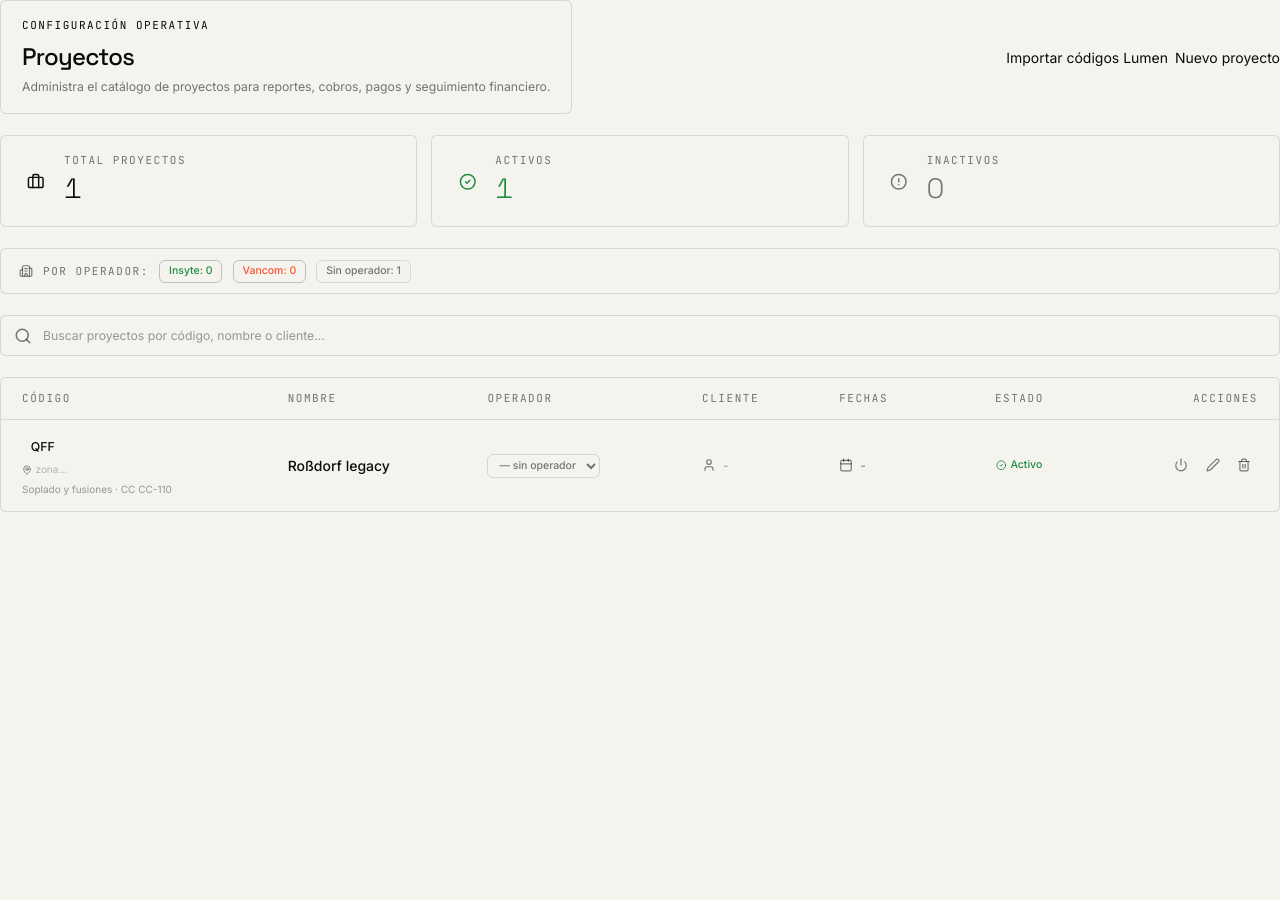
it: Projects — legacy code suggestion (T7) › "Usar sugerencia" copies the suggestion into the builder without touching the raw Código field or saving
Click the button titled "Editar" at (1212, 465), box [1198,451,1226,479]
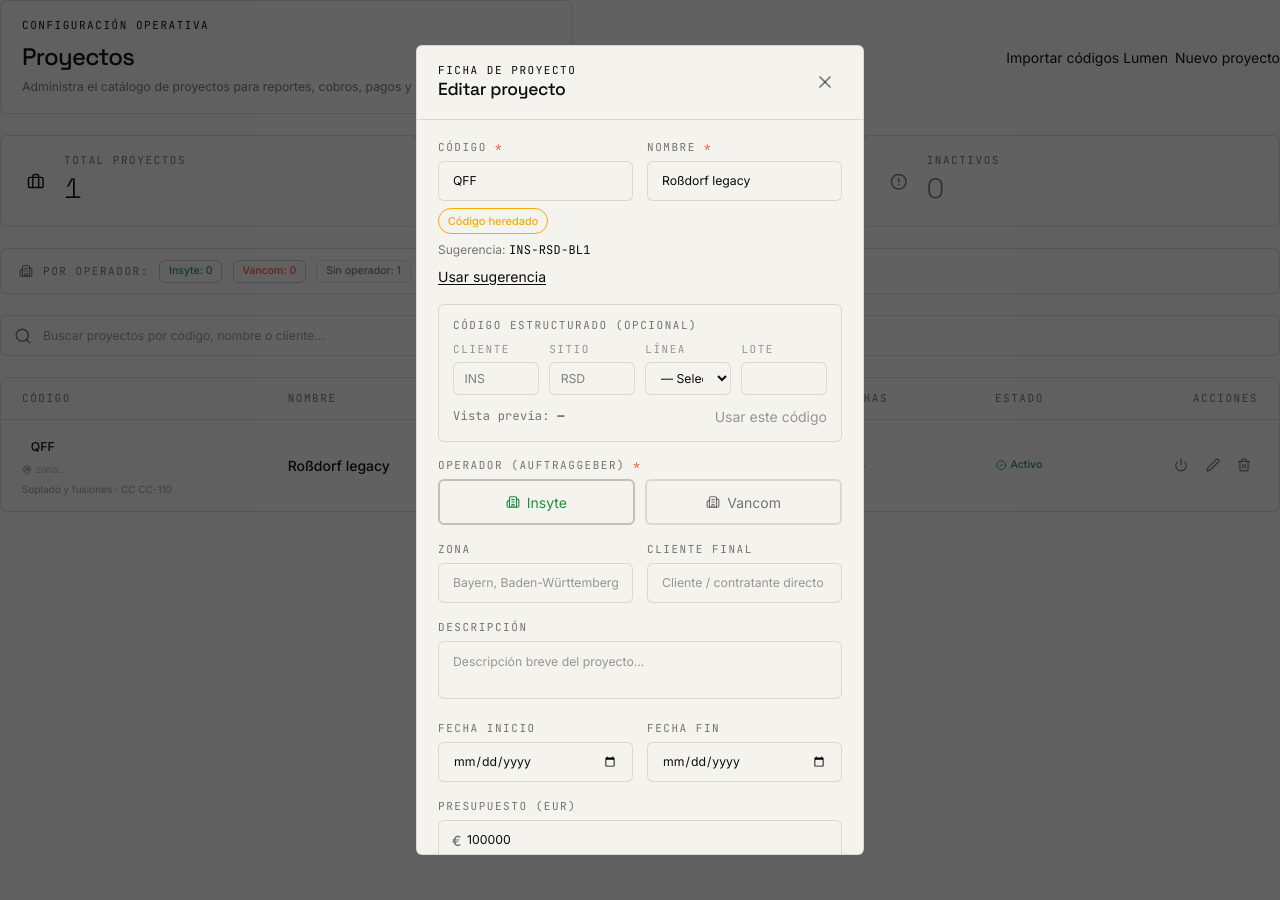
Click the button "Usar sugerencia" at (492, 276), box [438,266,546,287]
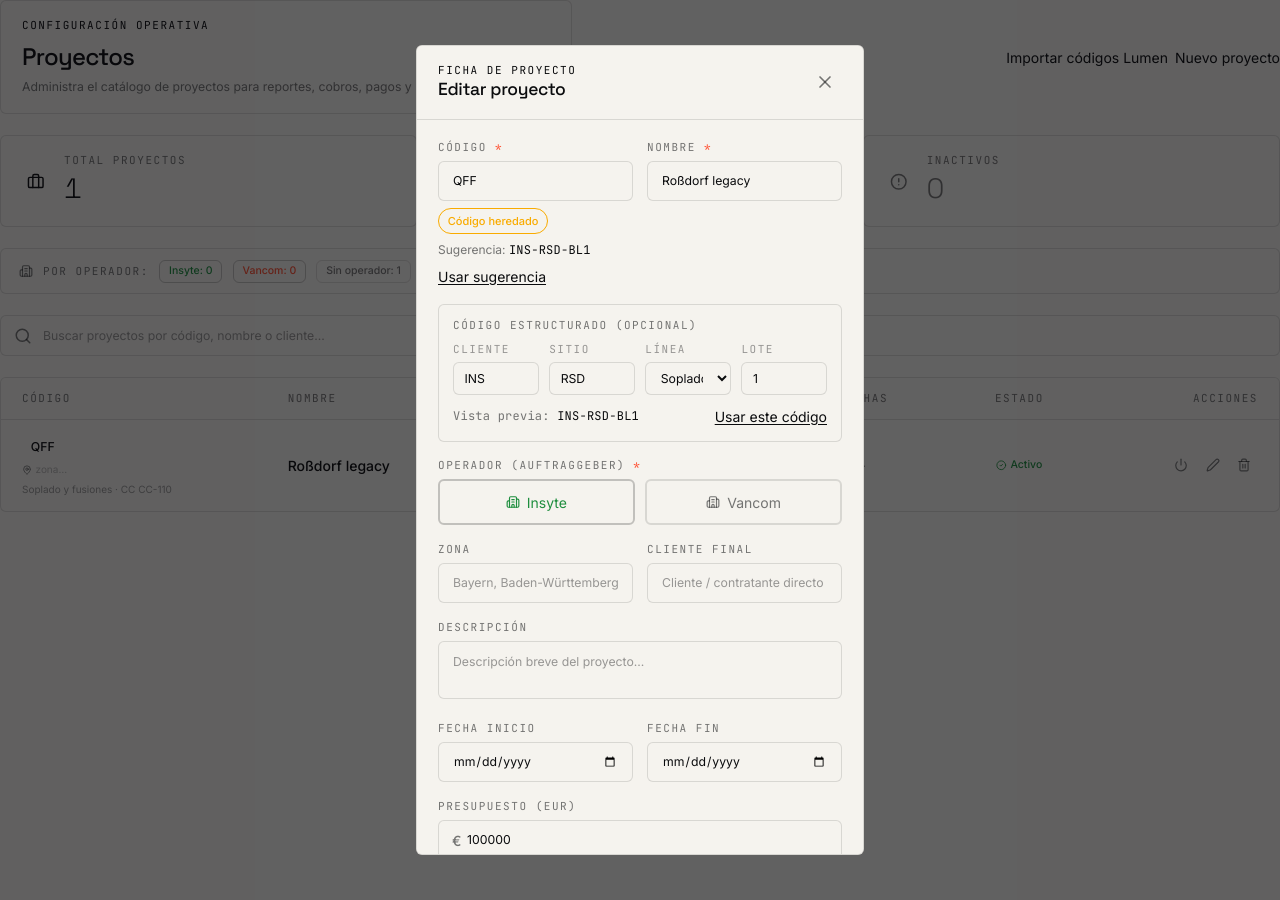
Expected: the field labelled "Cliente" holds "INS", [453,362,539,395]
Expected: the field labelled "Sitio" holds "RSD", [549,362,635,395]
Expected: the dropdown labelled "Línea" shows "Soplado y fusiones", [645,362,731,394]
